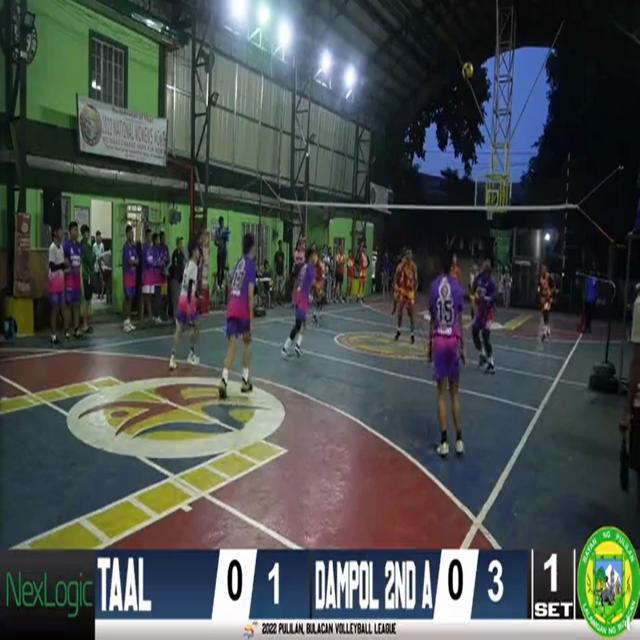volleyball: (462, 63, 474, 79)
